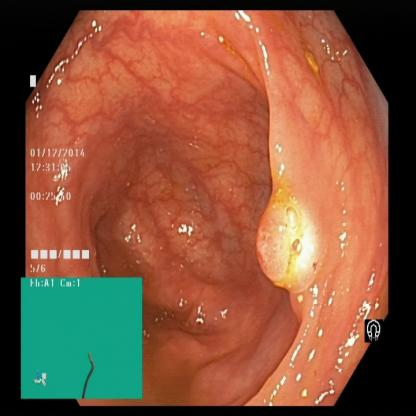Labels: (20, 278, 142, 399), (26, 143, 93, 277), (362, 309, 389, 349)
Polyps: (250, 181, 328, 305)
